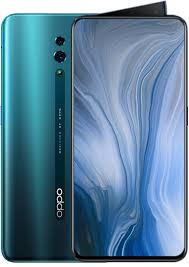oppo: (72, 11, 188, 262), (1, 13, 85, 261)
